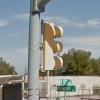Traffic light: (37, 14, 77, 77)
